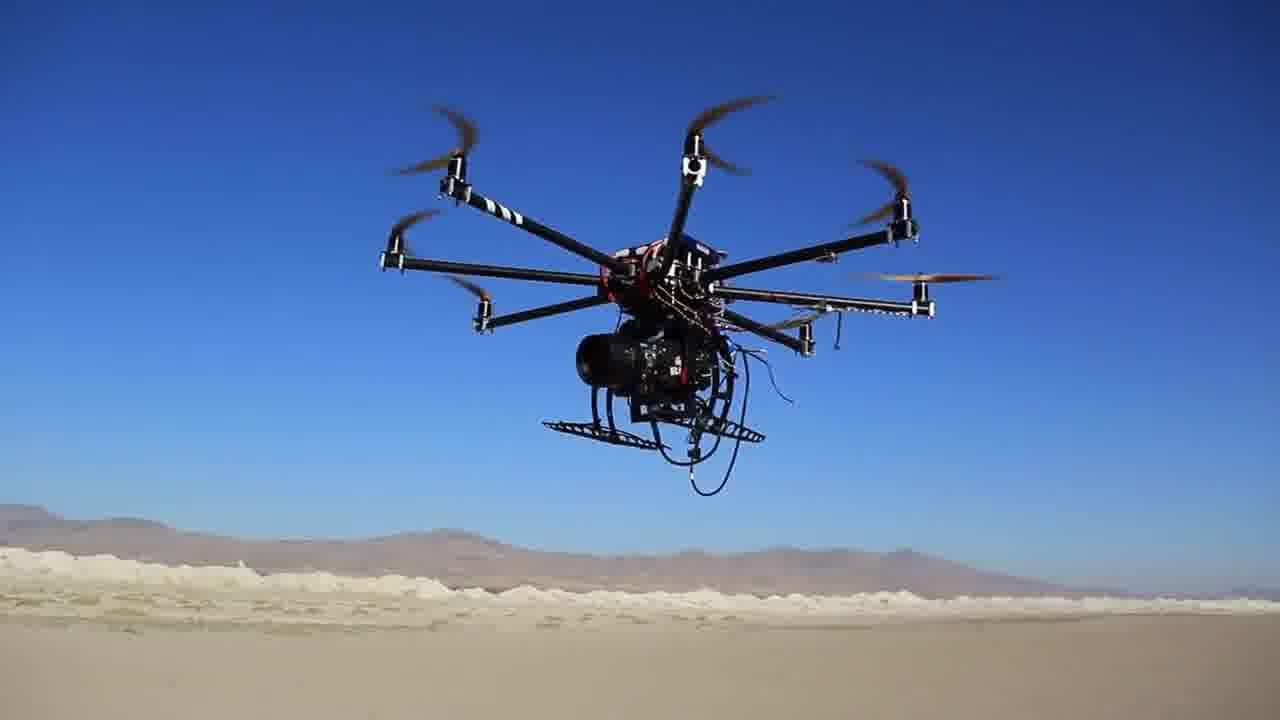drone: (359, 87, 851, 465)
